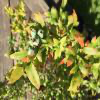Blueberry leaf: (26, 61, 41, 91), (5, 66, 24, 86), (70, 27, 89, 47), (35, 11, 48, 33), (77, 62, 93, 79), (81, 45, 99, 56), (10, 51, 28, 61), (45, 35, 53, 53), (36, 47, 44, 63), (59, 34, 67, 49)
